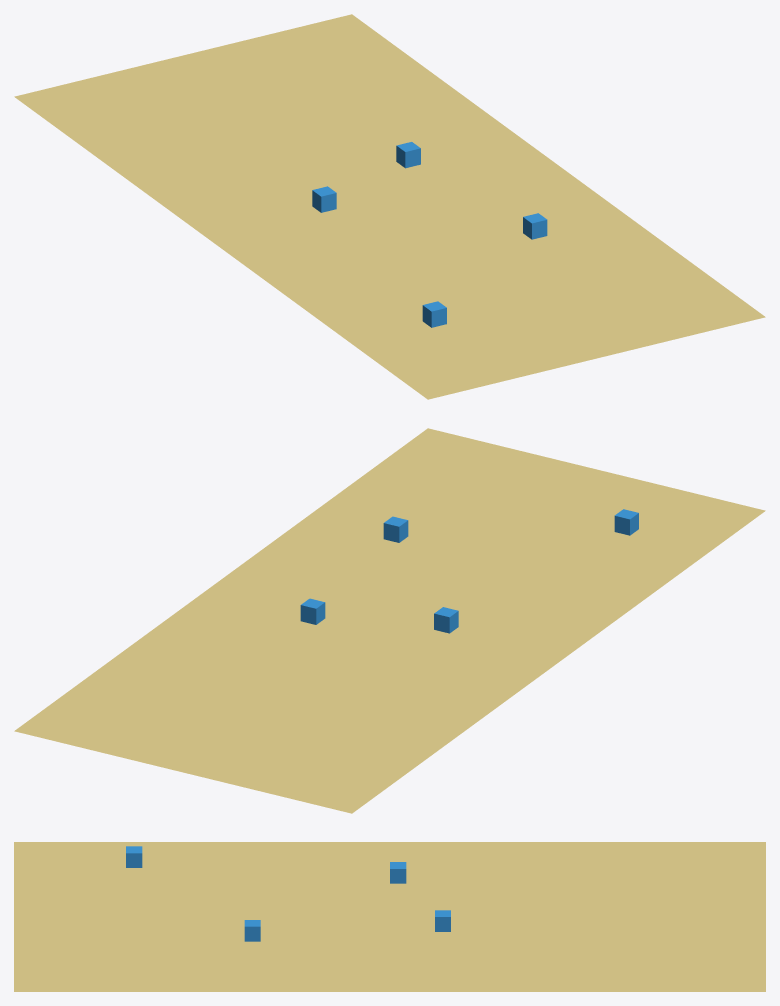
The model's file is camera-followpath.gltf.
3 views of the same model, one above another, from view 1: azimuth 30°, elevation 25°; view 2: azimuth 150°, elevation 25°; view 3: azimuth 270°, elevation 25° (orthographic). The views are drawn at different scales.
Parts seen in each view (by area): view 1: Plane; view 2: Plane; view 3: Plane, Cube.001, Cube.002, Cube.003, Cube.
Part boxes in pixels (x1=…): Plane: x1=14, y1=14, x2=765, y2=399; Plane: x1=14, y1=428, x2=765, y2=813; Plane: x1=14, y1=842, x2=765, y2=991; Cube.001: x1=390, y1=862, x2=406, y2=883; Cube.002: x1=244, y1=920, x2=260, y2=941; Cube.003: x1=126, y1=846, x2=142, y2=867; Cube: x1=435, y1=910, x2=450, y2=931.
Size of the model in its own units: 22.8 by 1.74 by 48.36.
